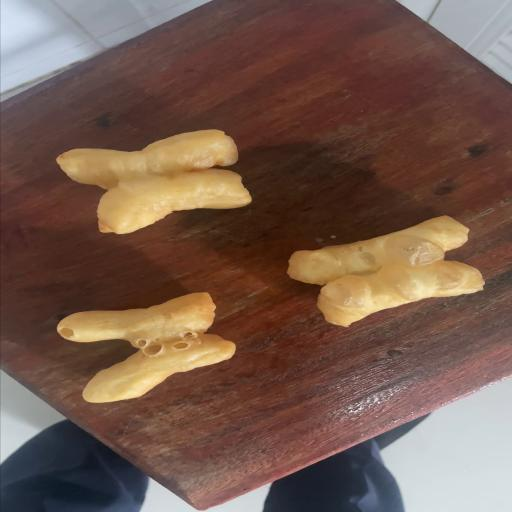street_golden_defect: (288, 216, 482, 325), (57, 294, 236, 400)
street_golden_good: (58, 132, 251, 231)
